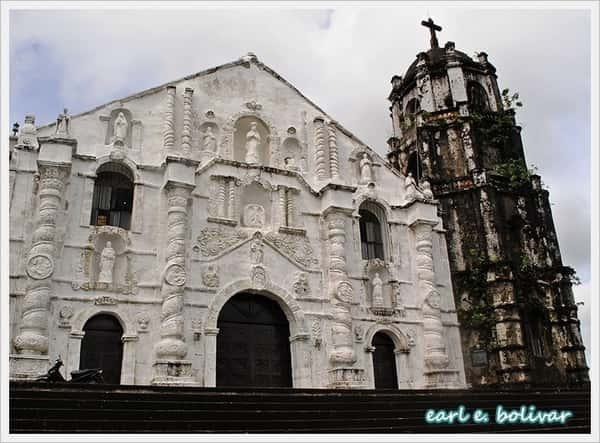daraga_church_daraga_albay: (32, 15, 588, 389)
